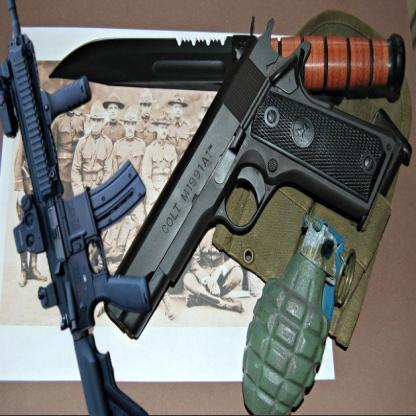Grenade: (241, 212, 358, 416)
Gun: (1, 0, 153, 416)
Knife: (49, 15, 408, 103)
Pistol: (104, 14, 414, 339)
